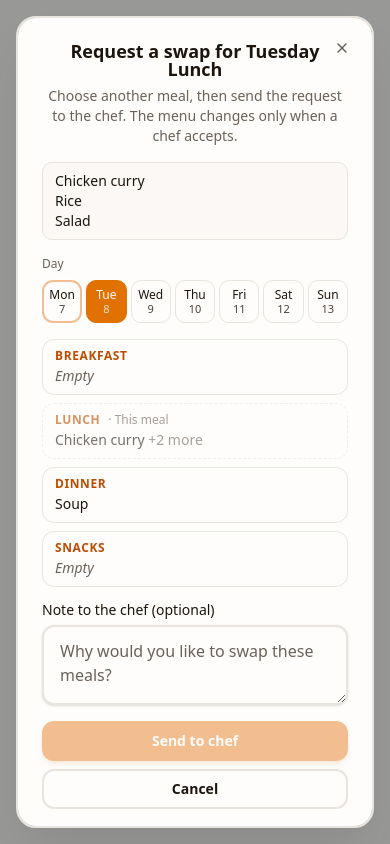
Test: meal swap dialog › keeps a refused request and its note open for correction
What coordinates should you click on to do the following:
click the button "Dinner Soup"
I would click on:
 (81, 483)
Its box is x1=42 y1=467 x2=348 y2=523.
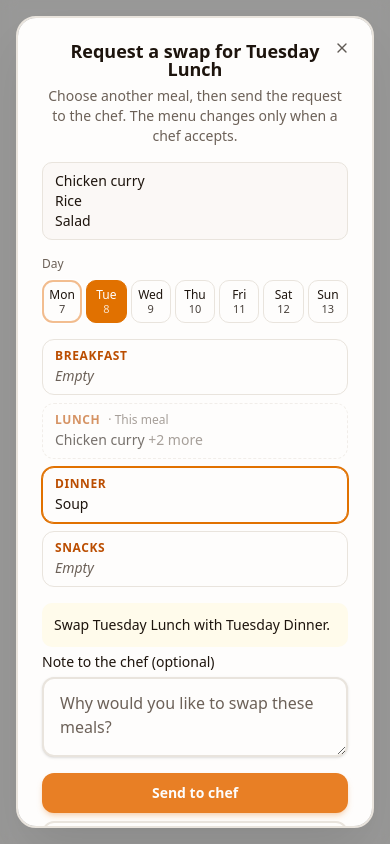
What coordinates should you click on to do the following:
click the button "Send to chef"
I would click on:
 (195, 793)
Its box is x1=42 y1=773 x2=348 y2=813.
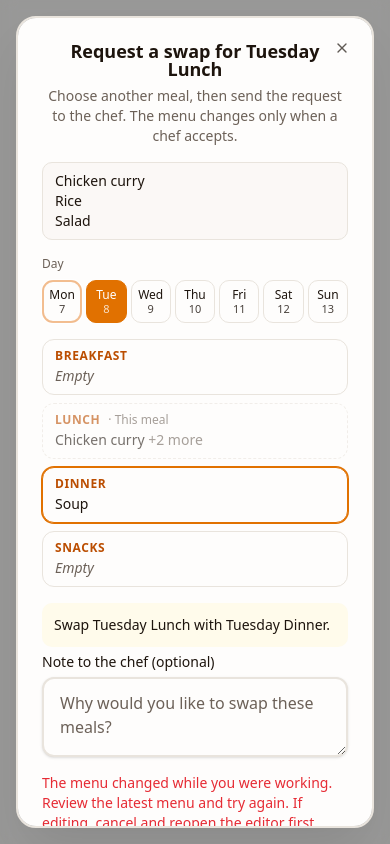
Result: the message shows "The menu changed while you were working. Review the latest menu and try again. If editing, cancel and reopen the editor first." at x1=42 y1=773 x2=332 y2=828
